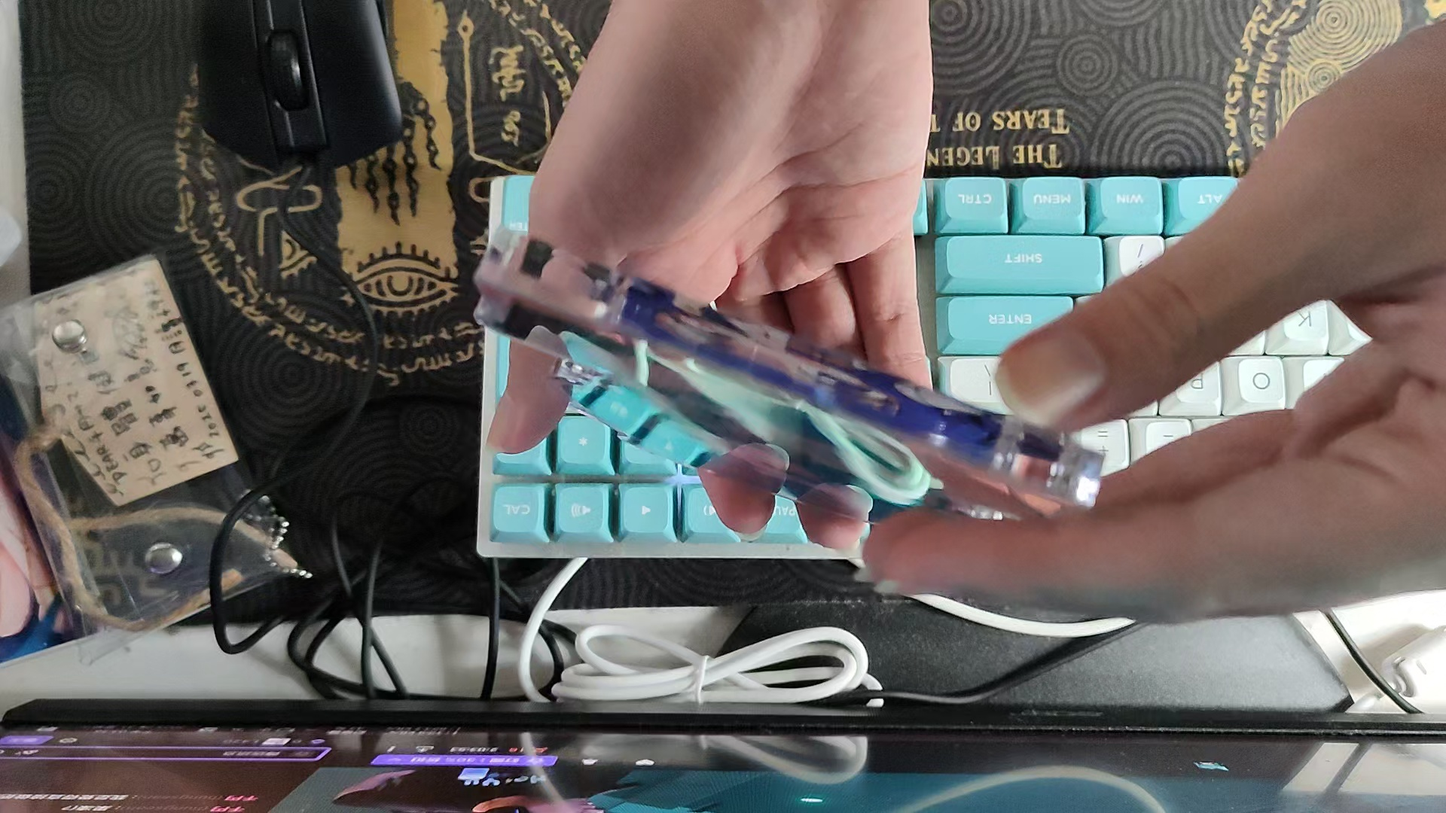Yanami-anna: (471, 226, 1106, 538)
